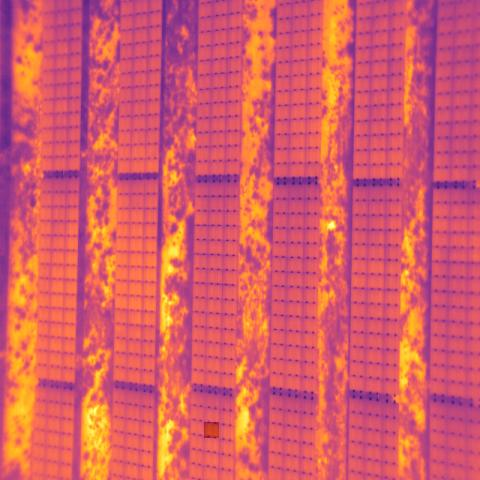fault: (204, 422, 219, 438)
